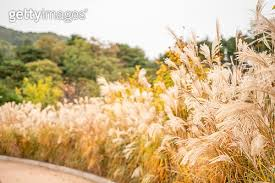field: (21, 40, 270, 182)
